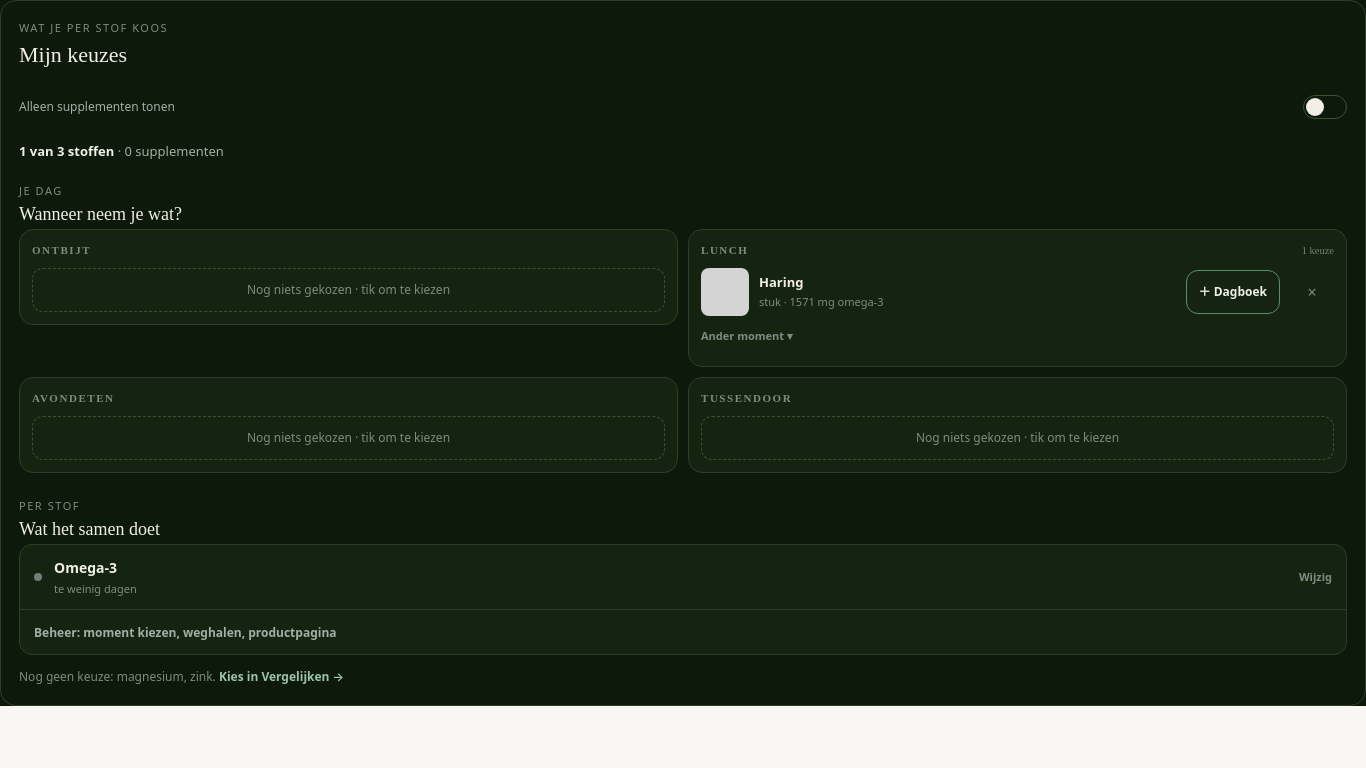
Test case: MijnKeuzes › ＋ Dagboek logt direct op het gekozen moment en blijft in Mijn keuzes, met ongedaan maken
The image size is (1366, 768).
Click the button with aria-label "Haring in je dagboek zetten bij lunch" at (1233, 292), box [1186,270,1280,314]
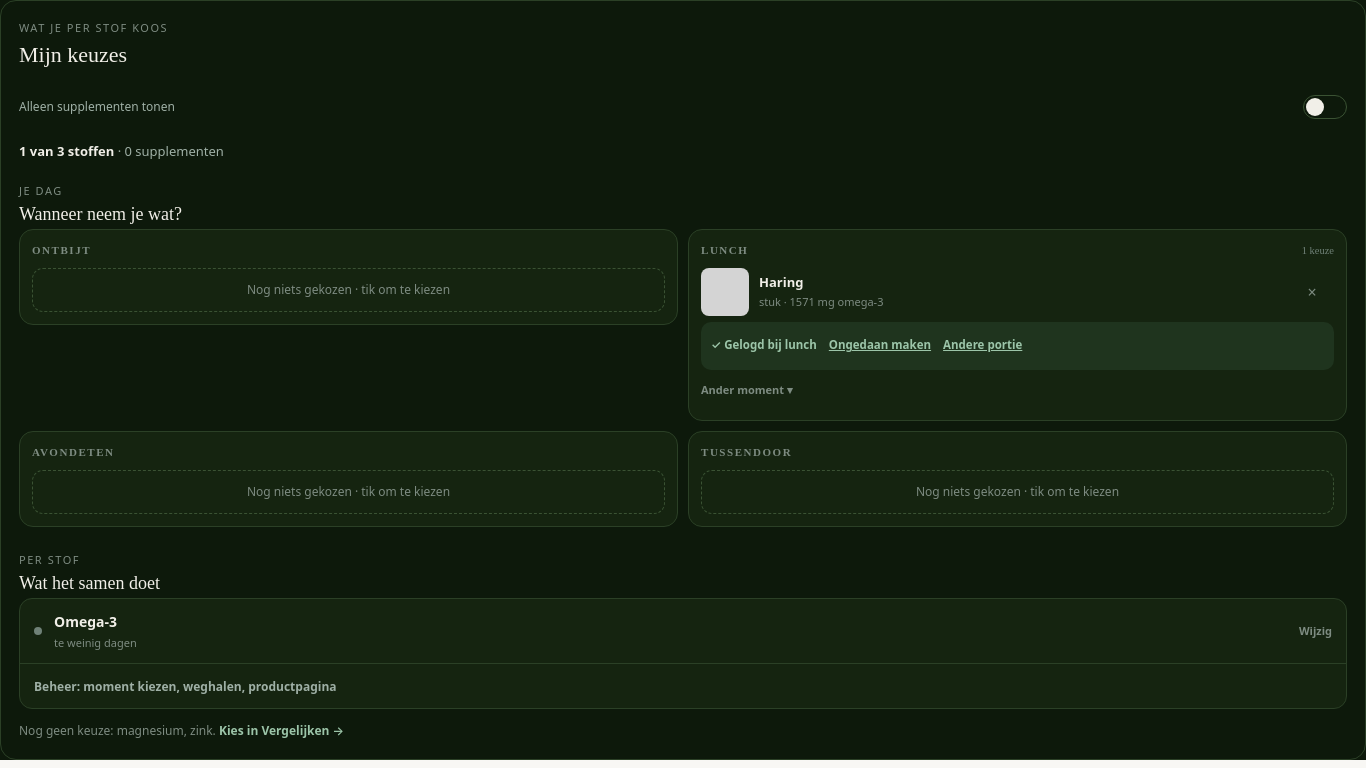
Expected: the text "✓ Gelogd bij lunch" is shown, [711,336,817,355]
Click the button "Ongedaan maken" at (880, 346), box [829,328,931,364]
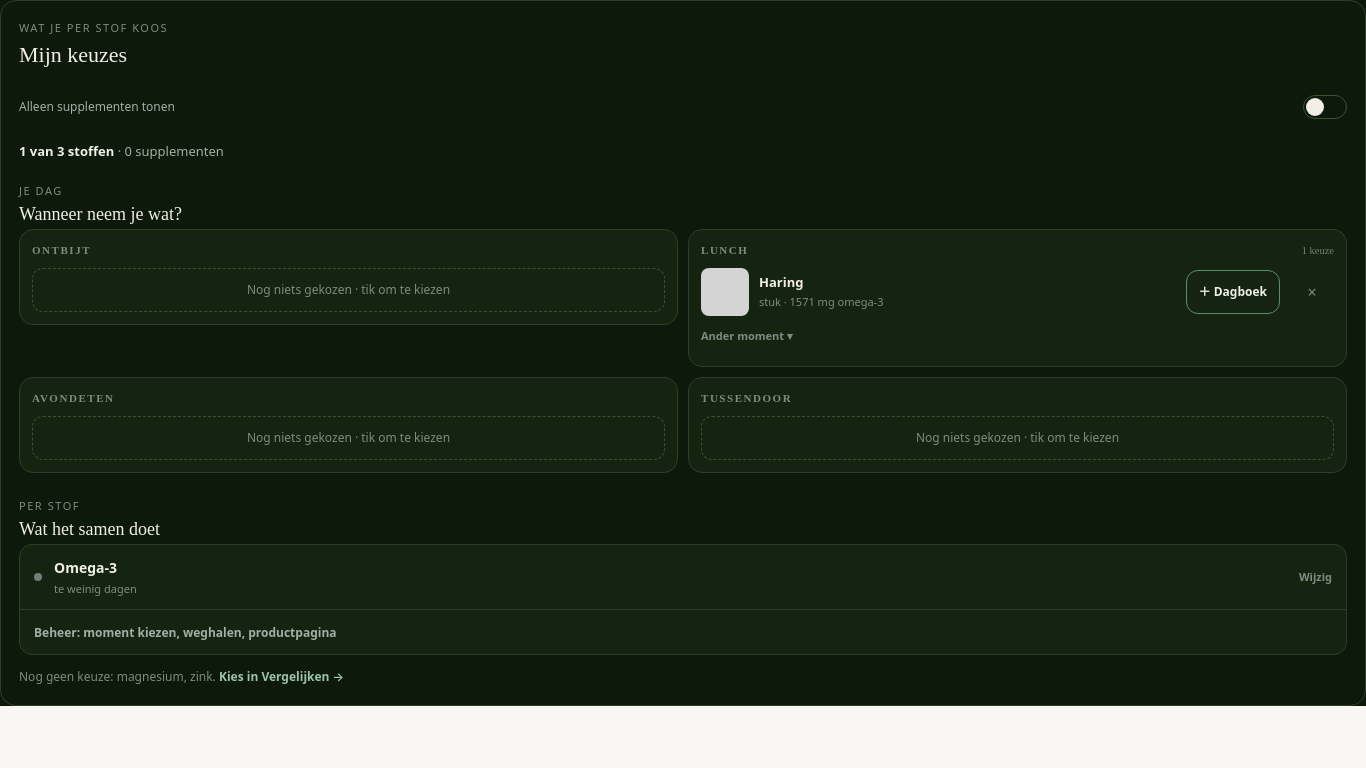
Expected: the button with aria-label "Haring in je dagboek zetten bij lunch" is shown, [1186,270,1280,314]
